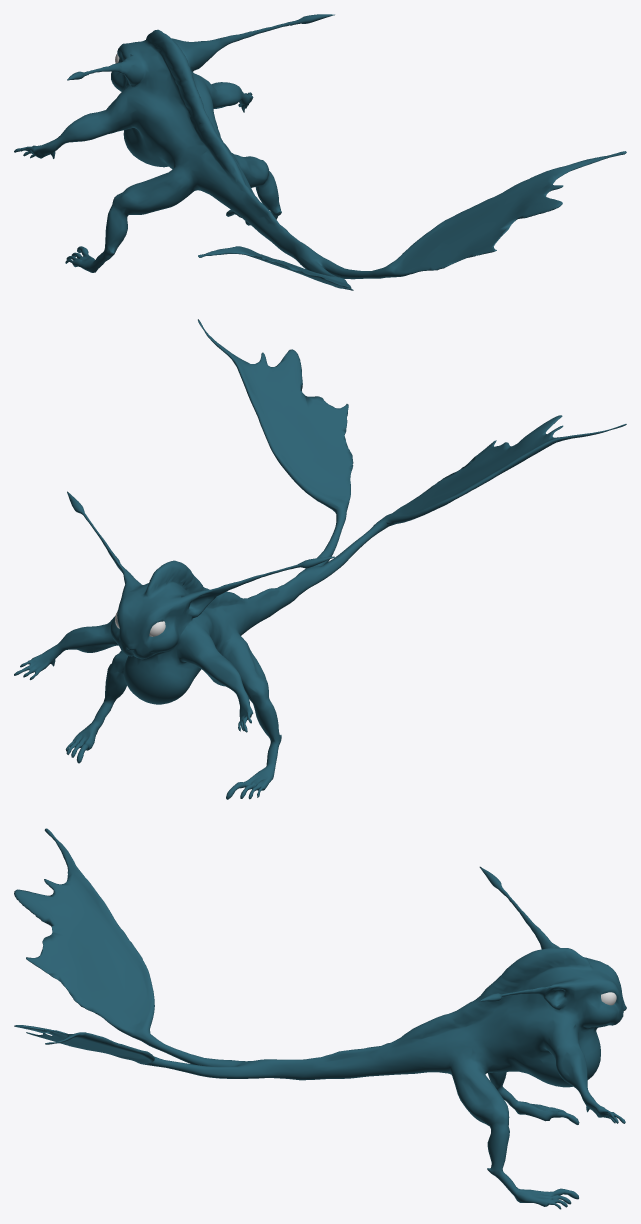
Rendered from creature-low.fbx.
3 views of the same model, one above another, from view 1: azimuth 30°, elevation 25°; view 2: azimuth 150°, elevation 25°; view 3: azimuth 270°, elevation 25° (orthographic). The views are drawn at different scales.
Visible parts, largest first — view 1: LOWPOLY-DECIMATE; view 2: LOWPOLY-DECIMATE; view 3: LOWPOLY-DECIMATE.
Boxes of the visible parts, x1=… form: LOWPOLY-DECIMATE: x1=14, y1=14, x2=626, y2=290; LOWPOLY-DECIMATE: x1=14, y1=319, x2=626, y2=799; LOWPOLY-DECIMATE: x1=14, y1=828, x2=626, y2=1209.
Size of the model in its own units: 9.47 by 11.42 by 4.7.
